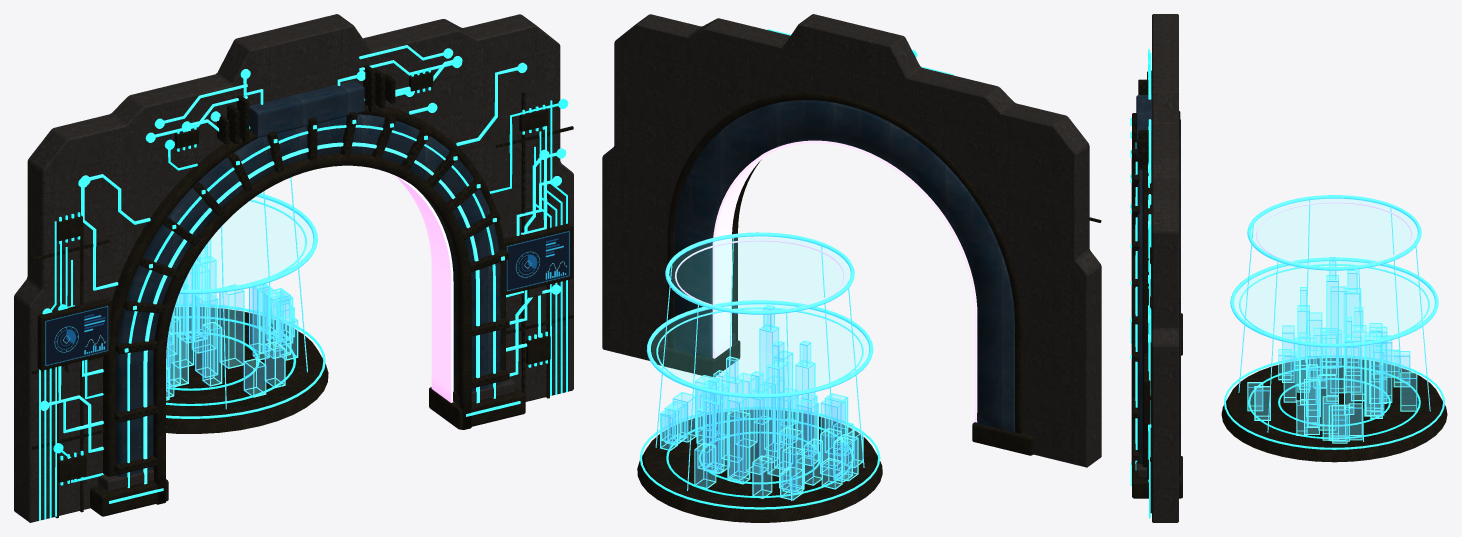
Rendered from fachada_03.glb.
The picture shows the model from 3 angles, left to right: view 1: azimuth 30°, elevation 25°; view 2: azimuth 150°, elevation 25°; view 3: azimuth 270°, elevation 25°; orthographic projection. The views are drawn at different scales.
Parts seen in each view (by area): view 1: F03_placa, F03_aro, F03_pedestal, F03_trilhas, F03_labio, F03_holo_vidros, F03_nervuras, F03_holo_arestas, F03_holo_disco0, F03_aro_ext, F03_friso_roxo, F03_topo (+15 smaller); view 2: F03_placa, F03_aro, F03_holo_vidros, F03_pedestal, F03_holo_disco0, F03_holo_arestas, F03_holo_disco1, F03_aro_ext, F03_friso_roxo, F03_holo_anel0, F03_holo_anel1, F03_feixes (+7 smaller); view 3: F03_pedestal, F03_placa, F03_holo_vidros, F03_holo_disco0, F03_holo_disco1, F03_holo_arestas, F03_aro_ext, F03_aro, F03_holo_anel0, F03_holo_anel1, F03_feixes, F03_ped_anel0 (+12 smaller).
Boxes of the visible parts, <box> form: F03_placa: <box>14,14,573,522</box>; F03_aro: <box>116,114,500,477</box>; F03_pedestal: <box>166,307,328,433</box>; F03_trilhas: <box>39,45,567,520</box>; F03_labio: <box>153,153,471,504</box>; F03_holo_vidros: <box>166,241,296,398</box>; F03_nervuras: <box>114,112,509,474</box>; F03_holo_arestas: <box>166,238,298,400</box>; F03_holo_disco0: <box>182,196,312,288</box>; F03_aro_ext: <box>103,104,505,476</box>; F03_friso_roxo: <box>394,175,453,402</box>; F03_topo: <box>249,80,364,137</box>; F03_placa: <box>602,14,1101,467</box>; F03_aro: <box>674,100,1014,431</box>; F03_holo_vidros: <box>661,306,862,498</box>; F03_pedestal: <box>637,410,882,522</box>; F03_holo_disco0: <box>652,304,868,393</box>; F03_holo_arestas: <box>660,304,863,500</box>; F03_holo_disco1: <box>670,236,849,310</box>; F03_aro_ext: <box>667,93,1021,433</box>; F03_friso_roxo: <box>712,140,977,422</box>; F03_holo_anel0: <box>646,300,873,398</box>; F03_holo_anel1: <box>665,232,854,314</box>; F03_feixes: <box>655,237,864,500</box>; F03_pedestal: <box>1221,358,1447,462</box>; F03_placa: <box>1152,14,1178,522</box>; F03_holo_vidros: <box>1248,258,1415,442</box>; F03_holo_disco0: <box>1235,261,1433,343</box>; F03_holo_disco1: <box>1252,198,1416,266</box>; F03_holo_arestas: <box>1247,257,1417,443</box>; F03_aro_ext: <box>1142,111,1180,476</box>; F03_aro: <box>1137,119,1180,472</box>; F03_holo_anel0: <box>1230,257,1438,347</box>; F03_holo_anel1: <box>1247,195,1421,270</box>; F03_feixes: <box>1238,199,1430,441</box>; F03_ped_anel0: <box>1224,355,1444,449</box>.
Size of the model in its own units: 12.1 by 8.9 by 7.44.
10 materials, 5 textured.
